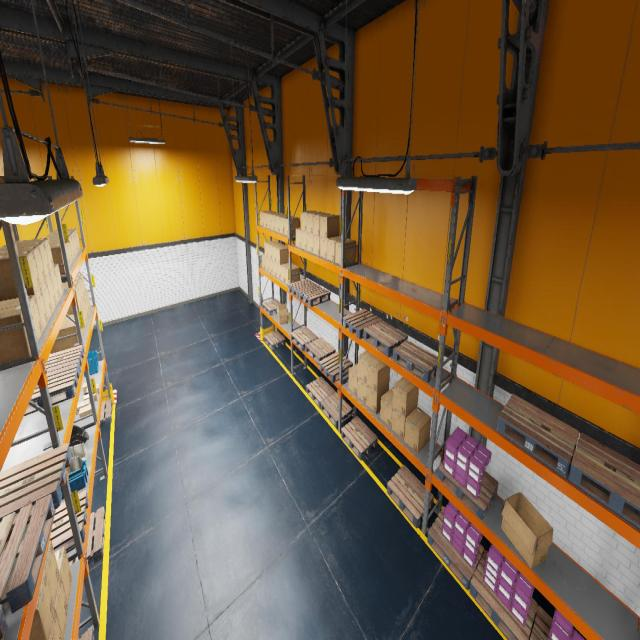box: (501, 492, 553, 568), (0, 250, 41, 300), (0, 294, 43, 340), (0, 241, 50, 279), (0, 246, 46, 286), (0, 306, 31, 365), (4, 238, 54, 274), (29, 572, 54, 640), (404, 406, 431, 454), (43, 540, 60, 606), (54, 546, 72, 606), (392, 377, 418, 417), (50, 320, 79, 354), (391, 406, 417, 441), (54, 576, 68, 640), (366, 357, 389, 393), (44, 234, 75, 260), (45, 232, 77, 257), (48, 231, 79, 254), (366, 384, 389, 414), (51, 228, 80, 251), (49, 238, 73, 264), (62, 276, 85, 302), (335, 238, 356, 266), (358, 351, 376, 383), (380, 387, 394, 428), (35, 287, 48, 331), (62, 281, 83, 306), (327, 236, 347, 262), (63, 314, 84, 338), (63, 286, 81, 314), (50, 241, 70, 266), (50, 243, 66, 274), (320, 214, 340, 238), (41, 281, 52, 321), (313, 213, 332, 236), (49, 610, 62, 640), (46, 274, 56, 312), (307, 212, 323, 234), (301, 210, 317, 232), (348, 363, 358, 396), (51, 269, 60, 305), (54, 264, 63, 298), (284, 217, 300, 236), (285, 265, 300, 284), (357, 377, 367, 405), (280, 263, 294, 283), (279, 216, 294, 234), (275, 246, 289, 264), (272, 244, 286, 262), (268, 242, 282, 260), (264, 240, 278, 258), (271, 213, 285, 231), (76, 273, 86, 296), (83, 388, 98, 403), (267, 212, 280, 229), (260, 210, 273, 227), (277, 304, 288, 324), (76, 399, 90, 414), (82, 379, 96, 393), (264, 212, 276, 228), (275, 215, 286, 232), (79, 405, 92, 418), (320, 236, 327, 259), (313, 234, 320, 256), (86, 384, 100, 394), (307, 232, 313, 253), (83, 298, 88, 322), (301, 230, 307, 250), (295, 228, 301, 248), (81, 308, 85, 334), (82, 303, 86, 328), (86, 288, 90, 312), (85, 294, 89, 316), (276, 263, 280, 280), (272, 260, 276, 276), (268, 258, 272, 274), (264, 257, 268, 272), (261, 254, 265, 269)
pallets: (568, 432, 640, 528), (496, 394, 579, 477), (0, 494, 55, 614), (469, 550, 538, 639), (0, 443, 72, 524), (427, 506, 484, 590), (438, 460, 498, 520), (386, 465, 434, 528), (24, 363, 80, 416), (49, 490, 89, 553), (69, 506, 105, 565), (393, 340, 437, 382), (341, 416, 377, 460), (363, 321, 408, 356), (530, 606, 570, 640), (343, 309, 382, 339), (320, 392, 352, 428), (45, 345, 84, 373), (318, 351, 352, 383), (306, 377, 335, 408), (305, 337, 335, 365), (290, 326, 318, 351), (299, 285, 330, 307), (288, 279, 317, 298), (264, 330, 285, 350), (100, 398, 112, 426), (262, 299, 281, 315), (0, 604, 7, 639), (78, 628, 94, 640)
